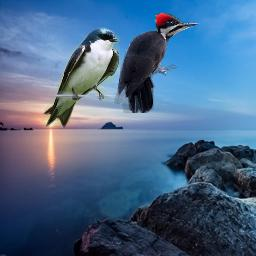Swallow: (42, 27, 120, 128)
Woodpecker: (114, 12, 200, 113)
